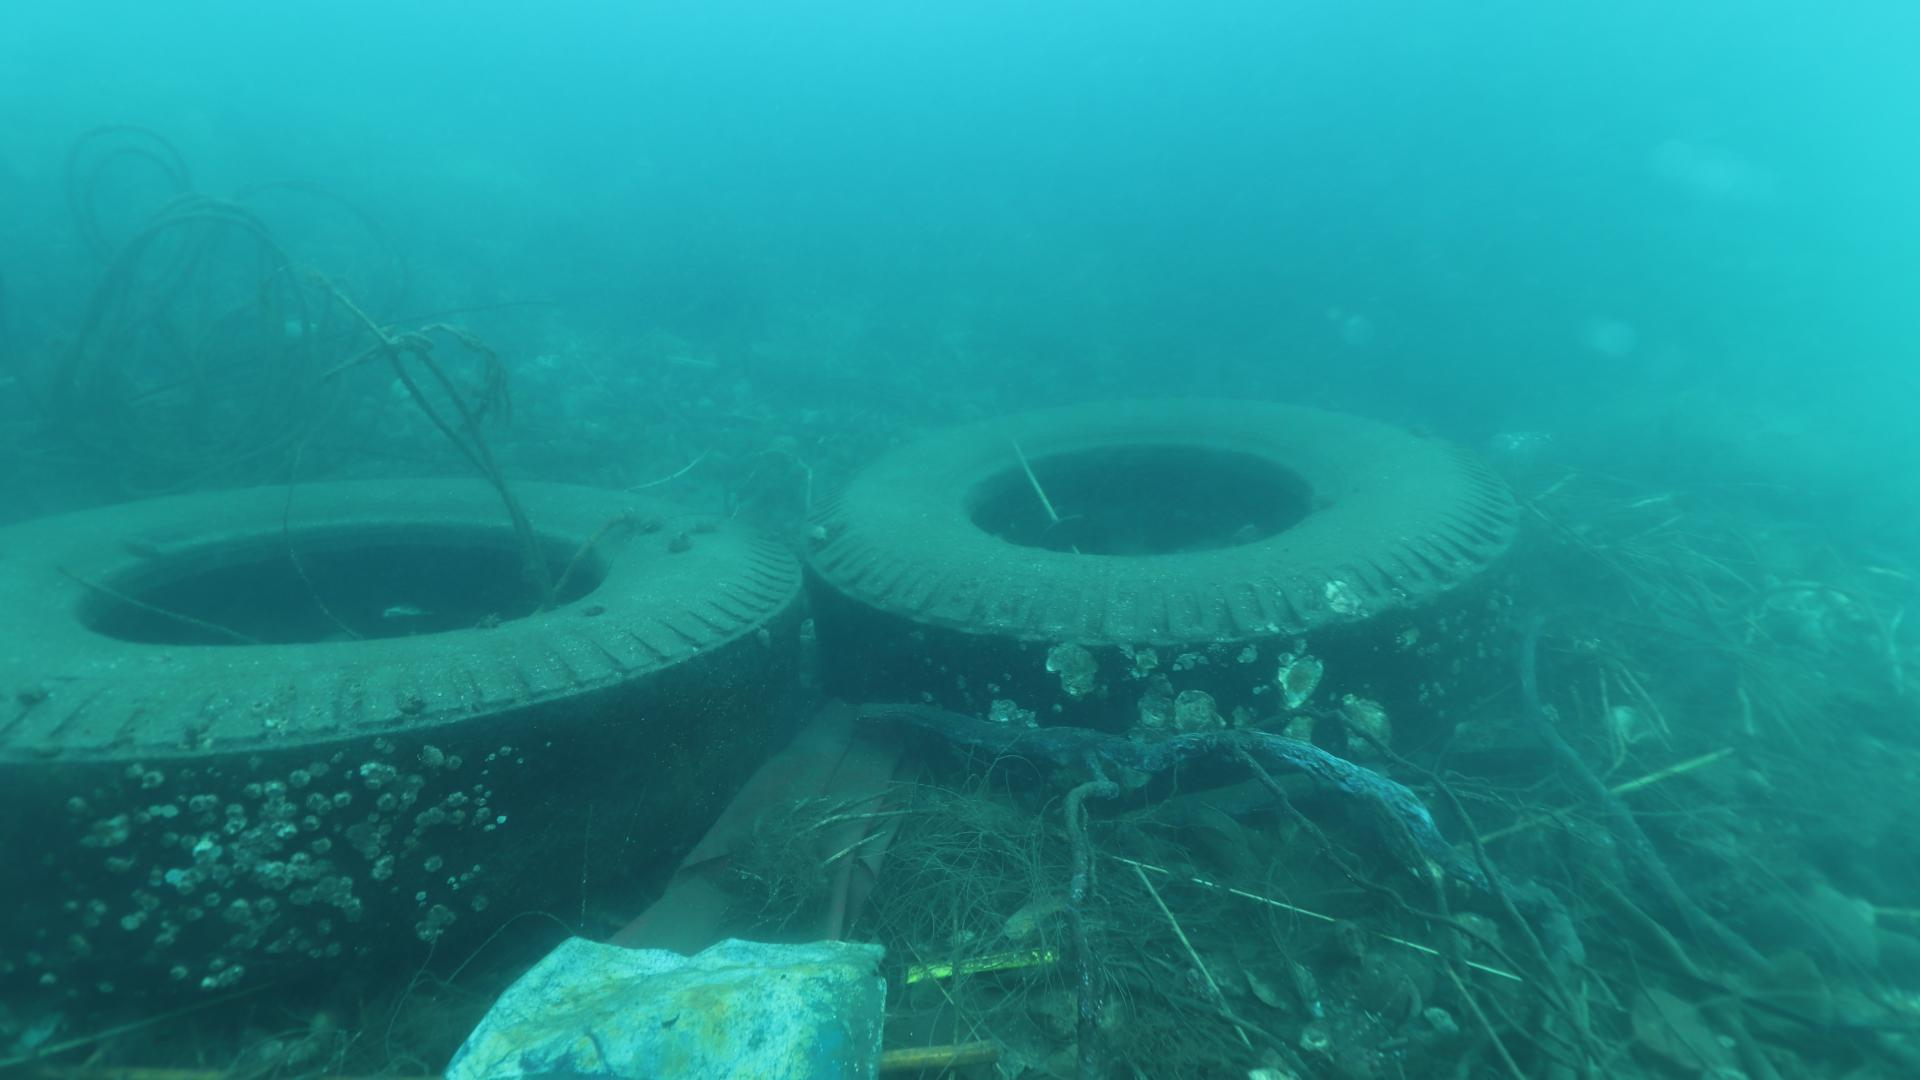tire: (0, 473, 804, 1000), (804, 396, 1522, 762)
